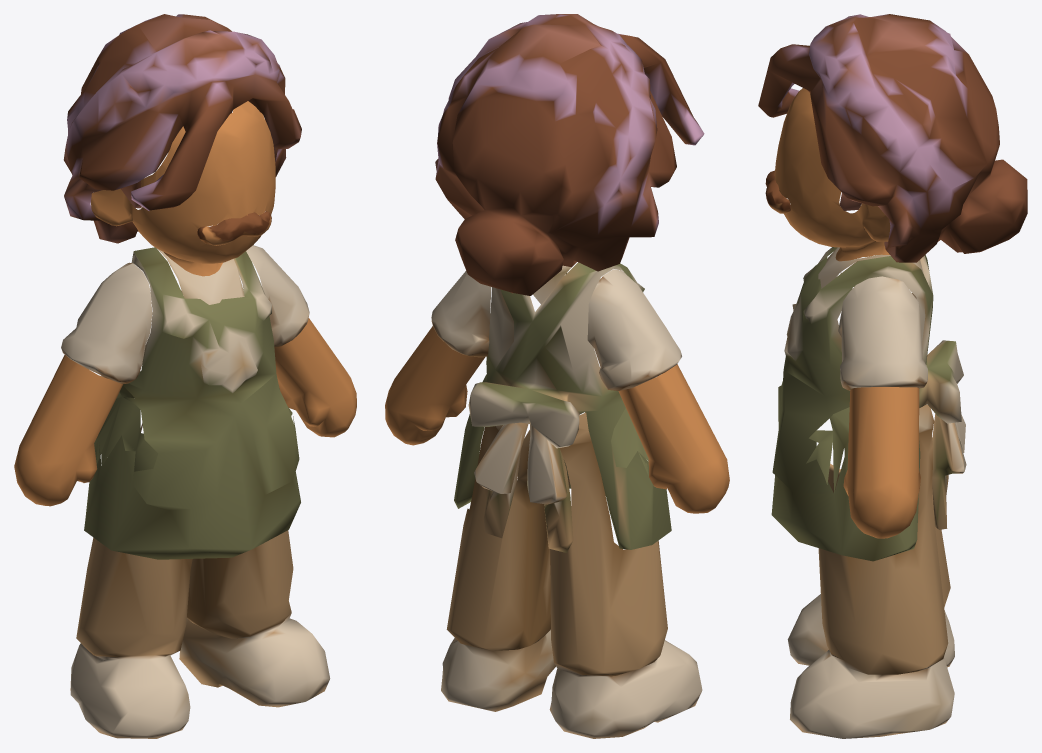
3 renders of one model, left to right at view 1: azimuth 30°, elevation 25°; view 2: azimuth 150°, elevation 25°; view 3: azimuth 270°, elevation 25°, orthographic.
Parts seen in each view (by area): view 1: top, bottom, hair, head, sleeve_r, hand_r, hand_l, sleeve_l, acc_head_0; view 2: hair, bottom, top, hand_r, sleeve_r, hand_l, sleeve_l; view 3: hair, bottom, top, sleeve_l, hand_l, head, acc_head_0.
Part boxes in pixels (x1,y1,x2,y2): top: [84, 247, 300, 559]; bottom: [70, 530, 330, 738]; hair: [63, 14, 301, 243]; head: [91, 101, 275, 276]; sleeve_r: [61, 262, 158, 471]; hand_r: [14, 355, 123, 506]; hand_l: [274, 318, 356, 437]; sleeve_l: [246, 245, 309, 439]; acc_head_0: [197, 211, 271, 245]; hair: [435, 14, 704, 295]; bottom: [441, 412, 702, 738]; top: [454, 262, 671, 552]; hand_r: [618, 364, 729, 513]; sleeve_r: [587, 269, 681, 475]; hand_l: [385, 326, 485, 445]; sleeve_l: [431, 271, 491, 427]; hair: [758, 14, 1027, 262]; bottom: [787, 404, 954, 738]; top: [771, 247, 966, 561]; sleeve_l: [806, 276, 927, 492]; hand_l: [843, 387, 920, 538]; head: [774, 88, 890, 261]; acc_head_0: [765, 170, 790, 213].
Bounding box in the file's own units: 0.5354 × 1.03 × 0.3766.
